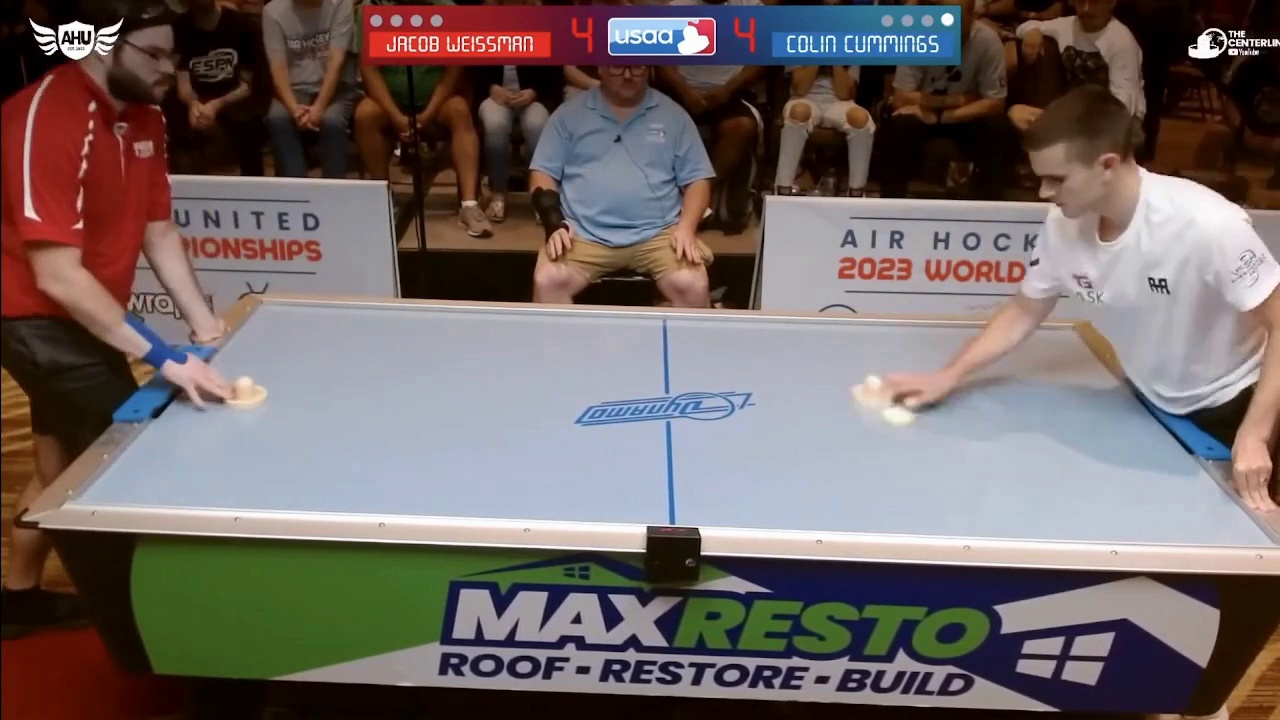player: (852, 371, 898, 410), (220, 374, 269, 407)
puck: (885, 405, 918, 430)
table: (63, 297, 1280, 564)
